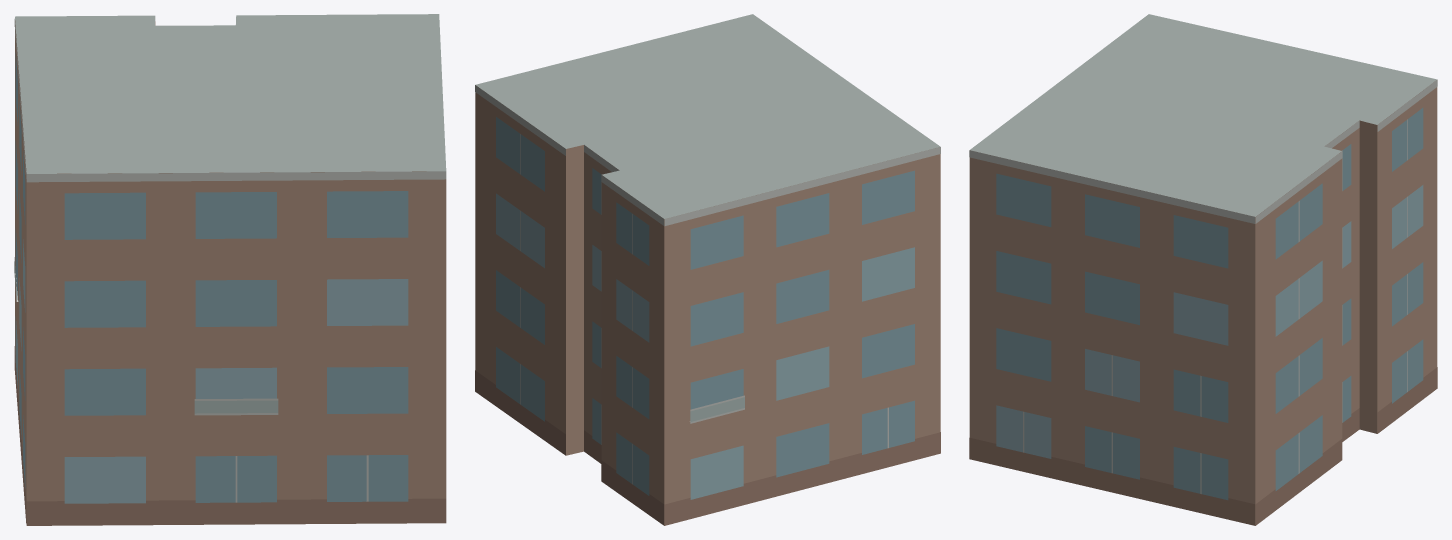
File: survey-upis-32942555.glb
3 renders of one model, left to right at view 1: azimuth 30°, elevation 25°; view 2: azimuth 150°, elevation 25°; view 3: azimuth 270°, elevation 25°, orthographic. The views are drawn at different scales.
Parts seen in each view (by area): view 1: survey-upis-32942555.tmp; view 2: survey-upis-32942555.tmp; view 3: survey-upis-32942555.tmp.
Part boxes in pixels (box(x1,y1,x2,y2)): survey-upis-32942555.tmp: box(14, 14, 446, 525); survey-upis-32942555.tmp: box(475, 14, 940, 525); survey-upis-32942555.tmp: box(969, 14, 1437, 525).
Bounding box in the file's own units: 14.65 × 10.4 × 14.28.
